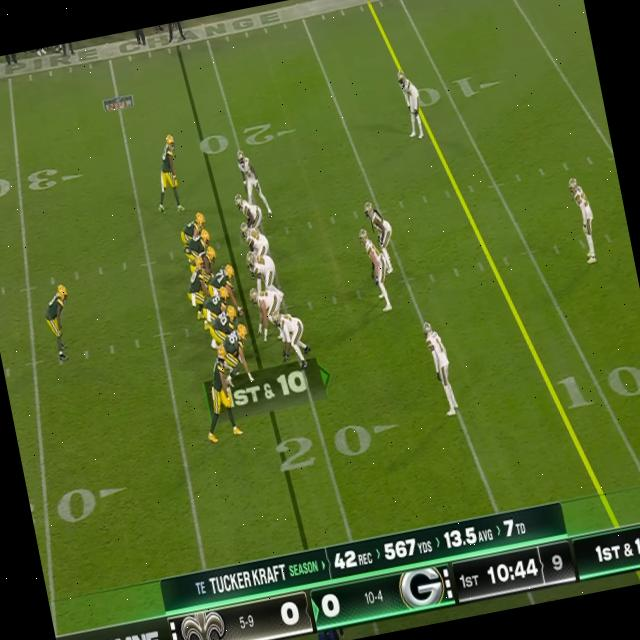Player: (199, 344, 242, 440), (566, 174, 602, 271), (423, 319, 459, 414), (357, 226, 396, 312), (150, 132, 187, 212), (41, 282, 78, 359), (364, 197, 399, 276), (272, 305, 310, 368), (396, 67, 426, 141), (236, 147, 268, 211), (222, 324, 255, 379), (182, 256, 212, 310), (248, 285, 282, 330), (206, 304, 242, 341), (246, 248, 278, 288), (206, 262, 240, 298), (234, 190, 264, 230), (198, 286, 232, 321), (242, 219, 270, 255), (177, 211, 208, 240), (180, 228, 212, 255), (200, 244, 220, 278)
